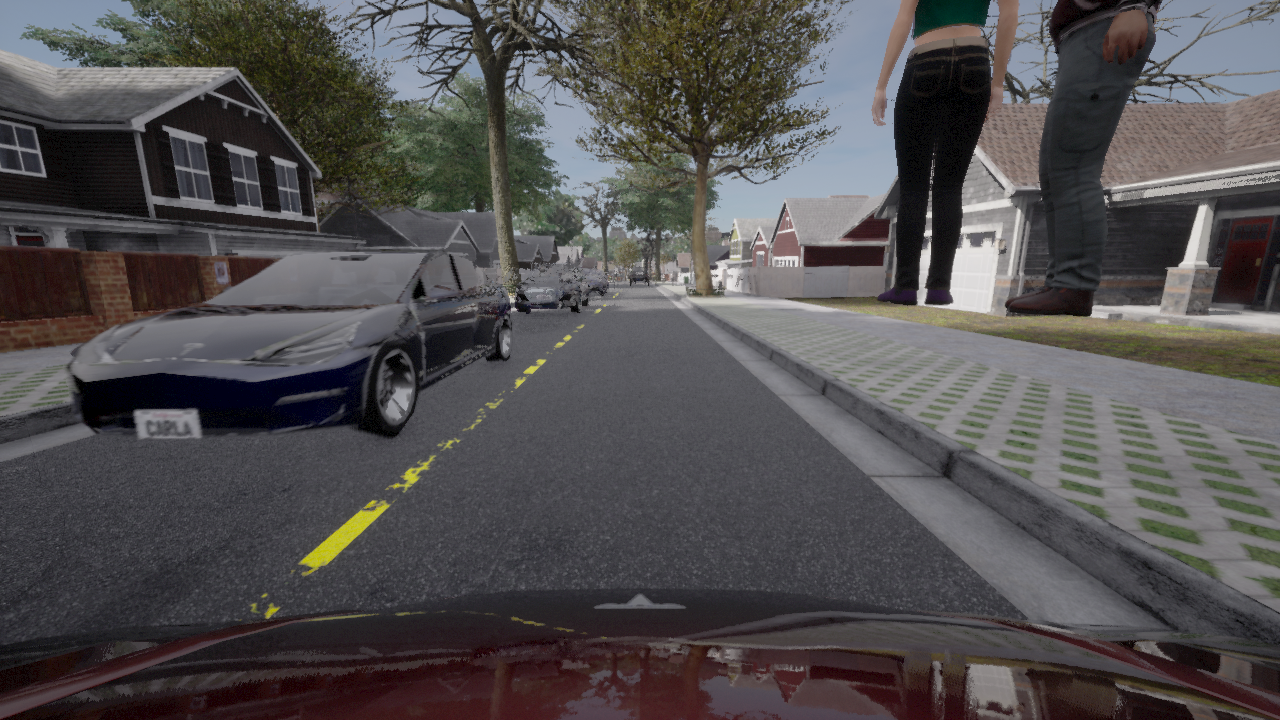cyclist: (0, 588, 1279, 719), (65, 248, 512, 439), (516, 261, 589, 312), (582, 269, 607, 294), (628, 266, 650, 286)
pedestrian: (1006, 0, 1161, 316), (871, 0, 1018, 304)
